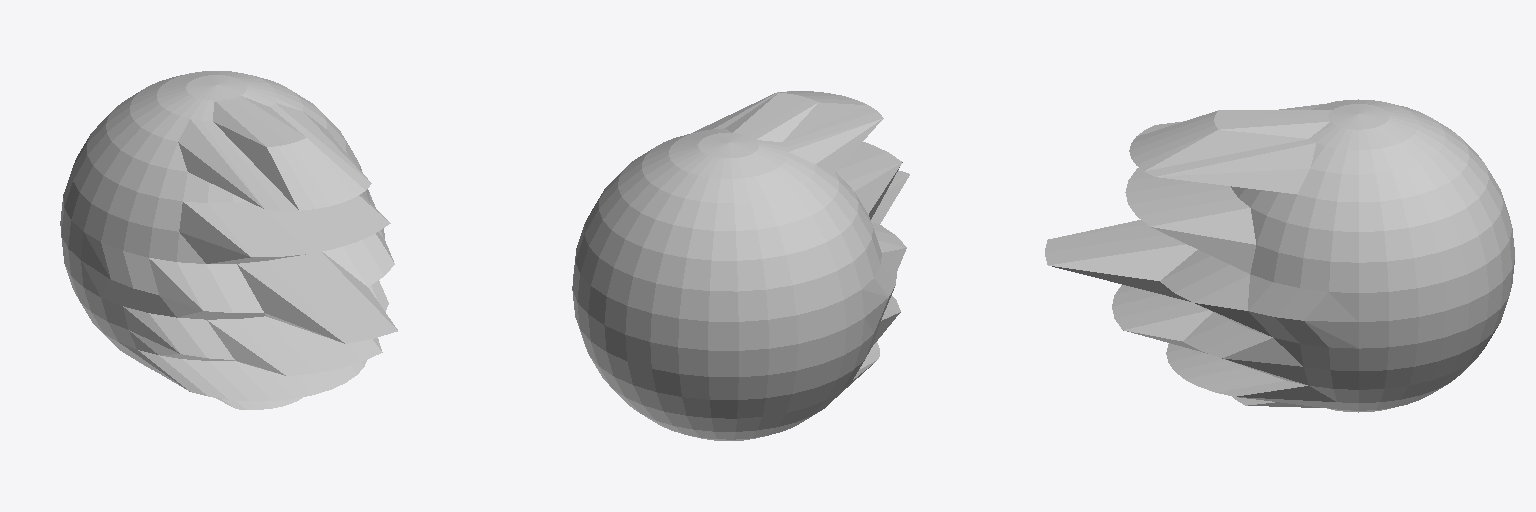
Rendered from power_speed.obj.
3 renders of one model, left to right at view 1: azimuth 30°, elevation 25°; view 2: azimuth 150°, elevation 25°; view 3: azimuth 270°, elevation 25°, orthographic.
Parts seen in each view (by area): view 1: Sphere; view 2: Sphere; view 3: Sphere.
Boxes of the visible parts, box(x1,y1,x2,y2) form: Sphere: box(60, 71, 397, 409); Sphere: box(572, 91, 909, 440); Sphere: box(1045, 99, 1514, 412).
Bounding box in the file's own units: 14 × 14 × 21.04.